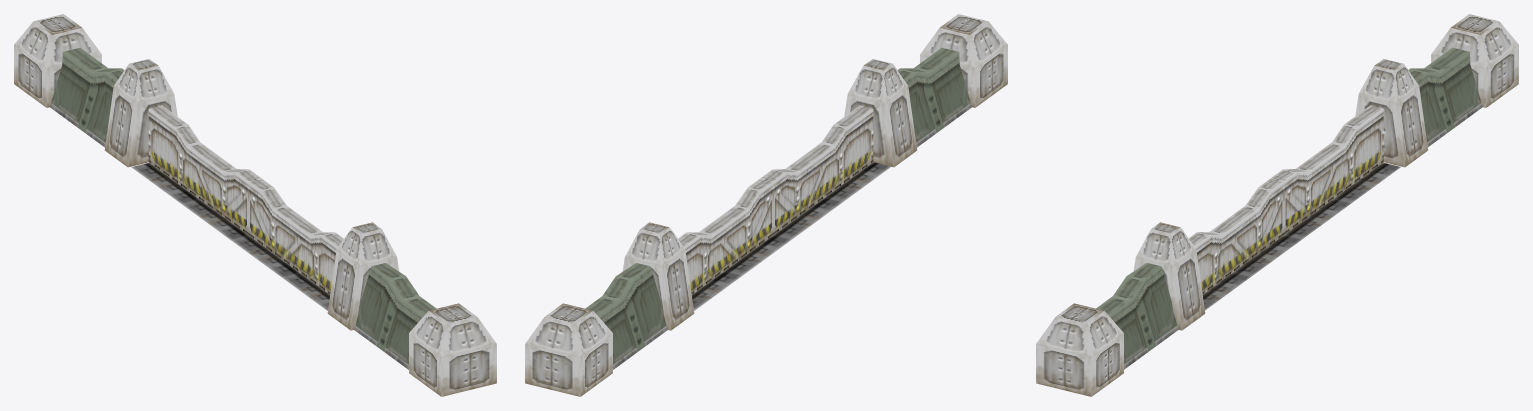
The model's file is l_lightgate.glb.
The picture shows the model from 3 angles, left to right: view 1: azimuth 30°, elevation 25°; view 2: azimuth 150°, elevation 25°; view 3: azimuth 330°, elevation 25°; orthographic projection.
Parts seen in each view (by area): view 1: L_LightGate, L_LightGateDoor, Gatefloor_PAB; view 2: L_LightGate, L_LightGateDoor, Gatefloor_PAB; view 3: L_LightGate, L_LightGateDoor, Gatefloor_PAB.
Part boxes in pixels (<box>): L_LightGate: <box>14,14,496,396</box>; L_LightGateDoor: <box>148,105,343,294</box>; Gatefloor_PAB: <box>131,162,329,310</box>; L_LightGate: <box>525,14,1007,396</box>; L_LightGateDoor: <box>678,105,873,294</box>; Gatefloor_PAB: <box>692,162,890,310</box>; L_LightGate: <box>1036,14,1518,396</box>; L_LightGateDoor: <box>1189,105,1383,294</box>; Gatefloor_PAB: <box>1203,162,1400,310</box>.
Size of the model in its own units: 4.16 by 6.27 by 55.54.
1 material, 1 textured.
